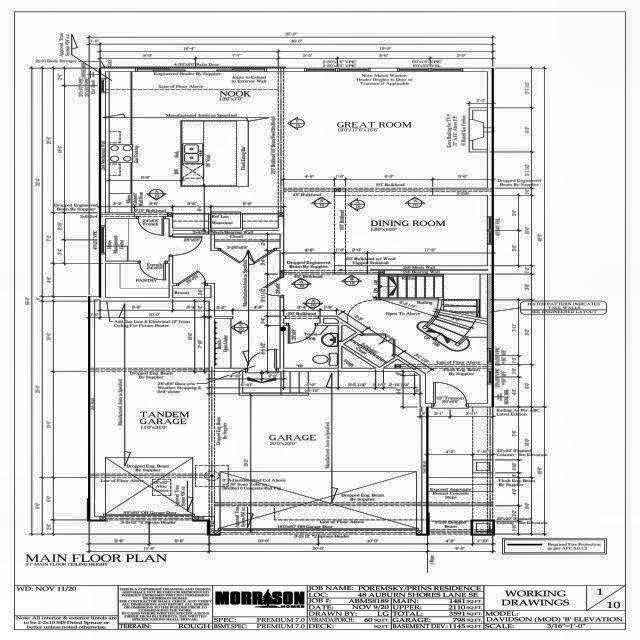room: (95, 300, 422, 530), (173, 234, 280, 368), (345, 195, 487, 253), (106, 219, 169, 261), (284, 326, 338, 368), (106, 264, 169, 297), (173, 286, 211, 297)
